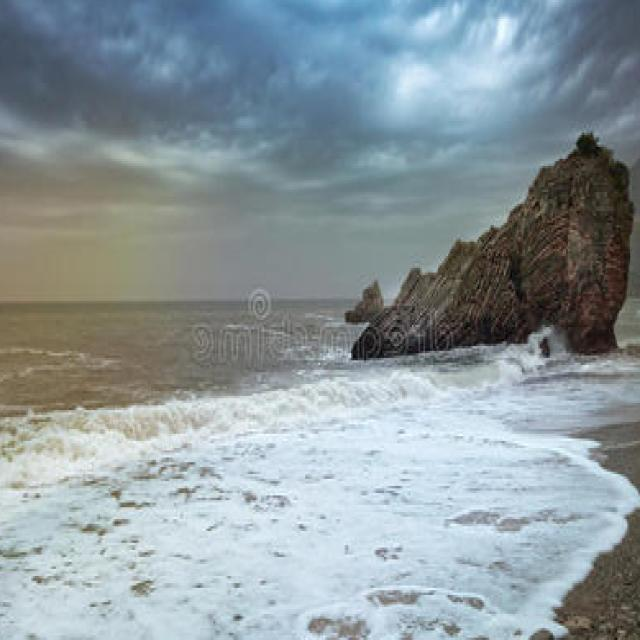reef: (343, 230, 597, 397)
